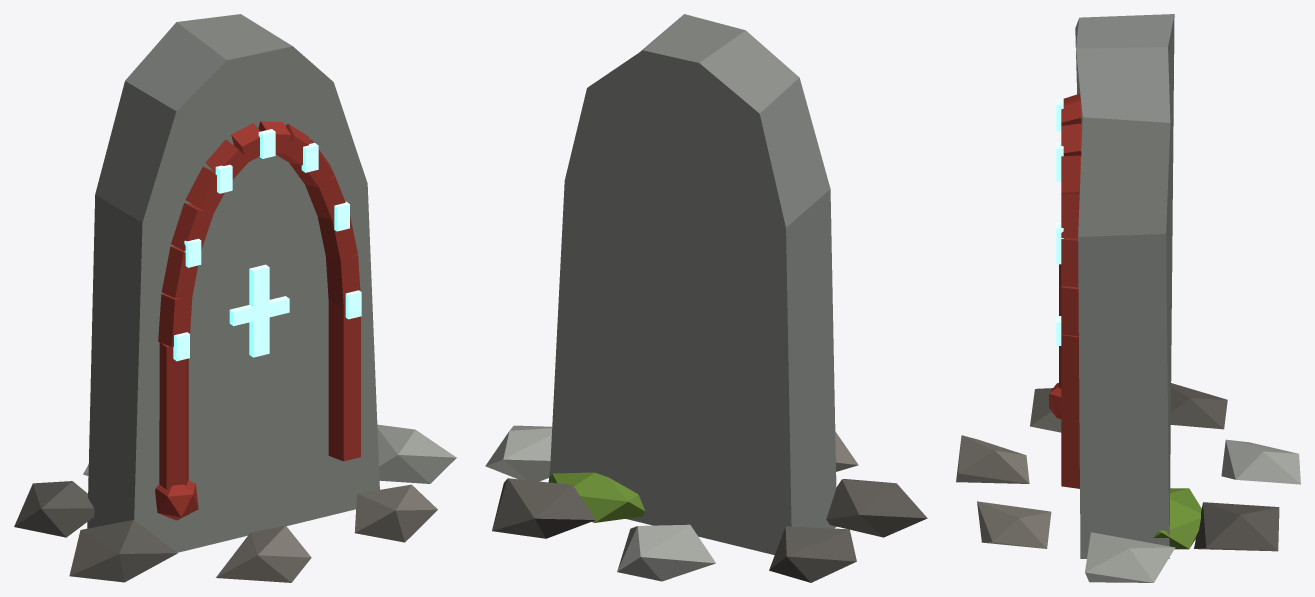
The model's file is forest_runestone.glb.
3 renders of one model, left to right at view 1: azimuth 30°, elevation 25°; view 2: azimuth 150°, elevation 25°; view 3: azimuth 270°, elevation 25°, orthographic. The views are drawn at different scales.
Visible parts, largest first — view 1: forest_runestone; view 2: forest_runestone; view 3: forest_runestone.
Part boxes in pixels (x1=…): forest_runestone: x1=14, y1=14, x2=456, y2=582; forest_runestone: x1=485, y1=14, x2=927, y2=582; forest_runestone: x1=956, y1=14, x2=1300, y2=582.
Size of the model in its own units: 2.45 by 2.8 by 1.86.
